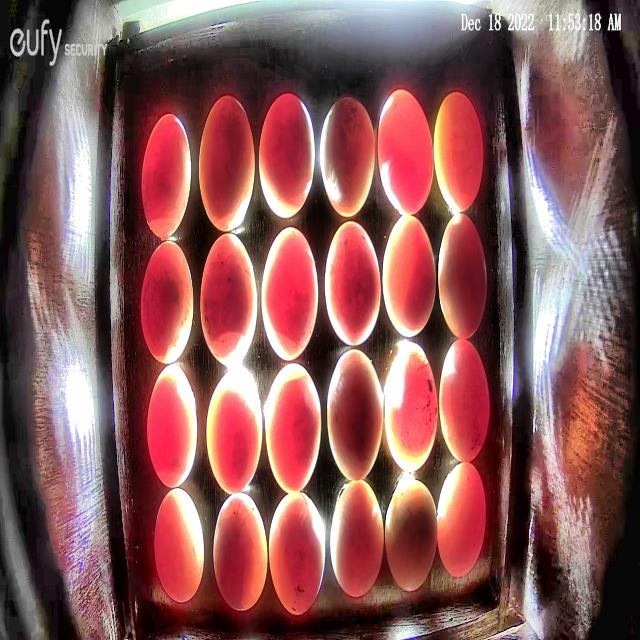FE: (198, 94, 255, 232), (200, 232, 258, 367), (261, 226, 318, 360), (258, 91, 316, 221), (266, 362, 322, 495), (376, 88, 434, 215), (327, 350, 383, 481), (268, 490, 326, 616), (324, 220, 381, 348), (206, 366, 262, 494), (384, 342, 438, 474), (320, 95, 376, 218), (381, 214, 436, 337), (140, 240, 194, 364), (213, 493, 268, 611), (438, 210, 487, 340), (147, 364, 198, 488), (438, 338, 489, 462), (331, 479, 384, 598), (141, 114, 191, 240), (434, 92, 484, 213), (153, 487, 204, 602), (436, 461, 486, 578), (384, 479, 436, 591)
